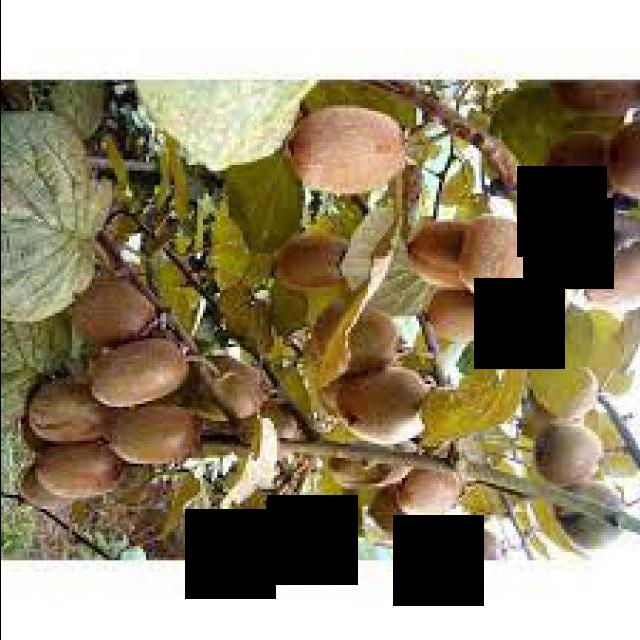kiwi: (291, 109, 405, 197), (459, 220, 559, 308), (92, 340, 192, 411), (340, 376, 434, 445), (485, 269, 576, 340), (408, 223, 502, 291), (183, 359, 271, 425), (112, 403, 200, 468), (67, 283, 161, 343), (314, 311, 405, 371), (29, 385, 112, 448), (430, 286, 516, 346), (547, 135, 618, 203), (553, 490, 633, 550), (277, 240, 365, 294), (33, 451, 124, 502), (530, 365, 601, 425), (541, 428, 610, 485), (374, 491, 448, 542), (587, 243, 640, 314), (553, 84, 640, 124), (399, 474, 462, 525), (24, 468, 98, 511), (607, 123, 640, 203), (445, 533, 502, 565)
